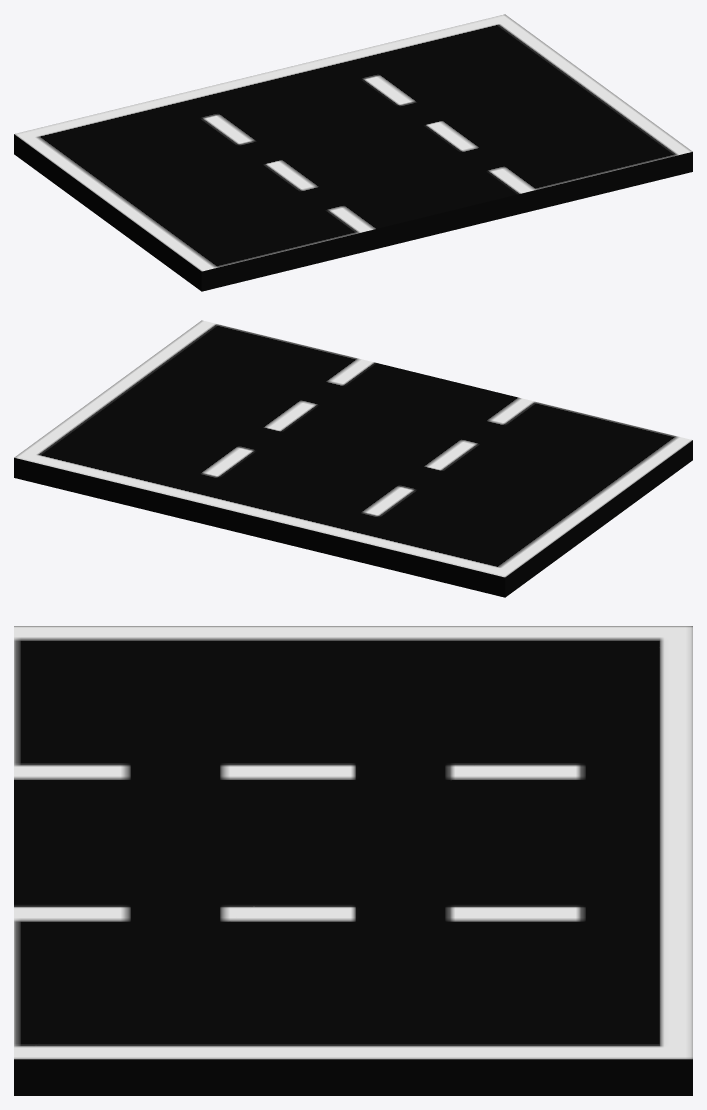
File: Panel_R03_C02__Road_01.dae
The picture shows the model from 3 angles, top to bottom: view 1: azimuth 30°, elevation 25°; view 2: azimuth 150°, elevation 25°; view 3: azimuth 270°, elevation 25°; orthographic projection. The views are drawn at different scales.
Visible parts, largest first — view 1: Object; view 2: Object; view 3: Object.
Part boxes in pixels (left/top/right/bottom): Object: left=14, top=14, right=692, bottom=291; Object: left=14, top=320, right=692, bottom=597; Object: left=14, top=626, right=692, bottom=1095.
Bounding box in the file's own units: 0.7655 × 0.507 × 0.03.
2 materials, 1 textured.
